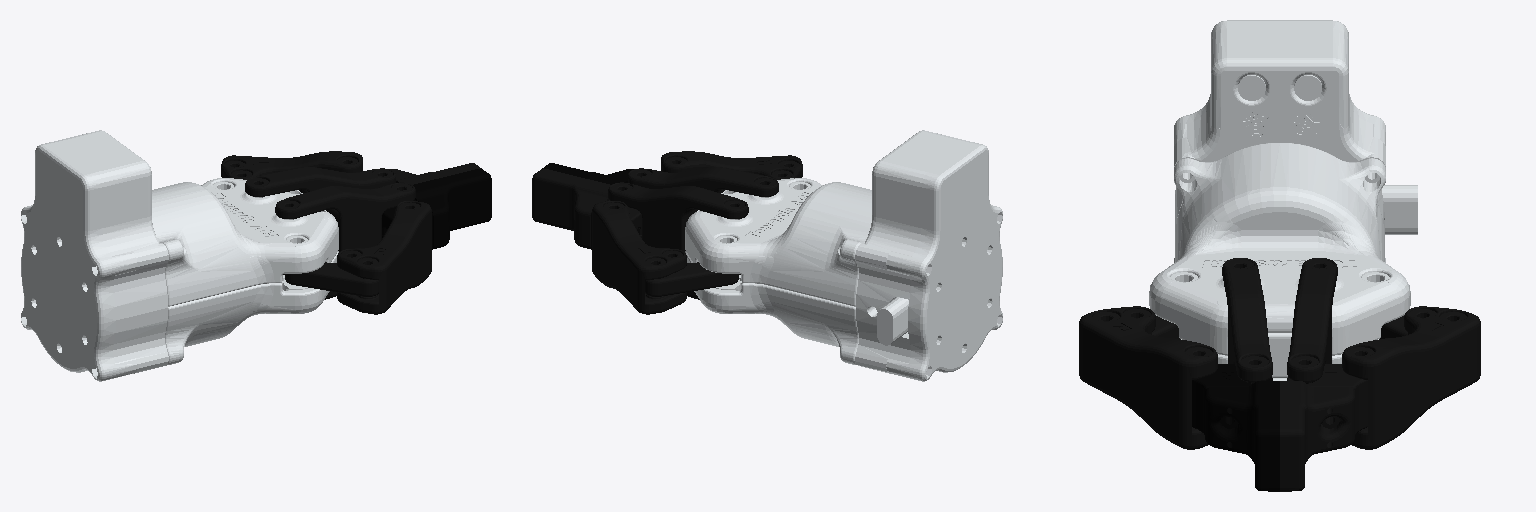
The robot description file, URDF, robot "zc_gripper_rev3":
<?xml version="1.0" encoding="utf-8"?>
<!-- This URDF was automatically created by SolidWorks to URDF Exporter! Originally created by [author] ([email redacted]) 
     Commit Version: 1.6.0-4-g7f85cfe  Build Version: 1.6.7995.38578
     For more information, please see http://wiki.ros.org/sw_urdf_exporter -->
<robot
  name="zc_gripper_rev3">
  <link
    name="base_link">
    <inertial>
      <origin
        xyz="0.041595 3.8229E-05 0.0084072"
        rpy="0 0 0" />
      <mass
        value="0.21079" />
      <inertia
        ixx="0.00015248"
        ixy="-4.2673E-07"
        ixz="-1.2221E-06"
        iyy="0.0001472"
        iyz="-7.0428E-07"
        izz="0.00015973" />
    </inertial>
    <visual>
      <origin
        xyz="0 0 0"
        rpy="0 0 0" />
      <geometry>
        <mesh
          filename="package://TR4_gripper_description/meshes/base_link.STL" />
      </geometry>
      <material
        name="">
        <color
          rgba="0.89804 0.91765 0.92941 1" />
      </material>
    </visual>
    <collision>
      <origin
        xyz="0 0 0"
        rpy="0 0 0" />
      <geometry>
        <mesh
          filename="package://TR4_gripper_description/meshes/base_link.STL" />
      </geometry>
    </collision>
  </link>
  <link
    name="l_link1">
    <inertial>
      <origin
        xyz="0.025591 0.01098 0.00012619"
        rpy="0 0 0" />
      <mass
        value="0.025052" />
      <inertia
        ixx="3.8147E-06"
        ixy="8.0164E-07"
        ixz="-2.625E-08"
        iyy="4.5288E-06"
        iyz="1.6433E-08"
        izz="6.104E-06" />
    </inertial>
    <visual>
      <origin
        xyz="0 0 0"
        rpy="0 0 0" />
      <geometry>
        <mesh
          filename="package://TR4_gripper_description/meshes/l_link1.STL" />
      </geometry>
      <material
        name="">
        <color
          rgba="0.11373 0.11373 0.11373 1" />
      </material>
    </visual>
    <collision>
      <origin
        xyz="0 0 0"
        rpy="0 0 0" />
      <geometry>
        <mesh
          filename="package://TR4_gripper_description/meshes/l_link1.STL" />
      </geometry>
    </collision>
  </link>
  <joint
    name="l_joint1"
    type="revolute">
    <origin
      xyz="0.096753 0.0306 0"
      rpy="0 0 0" />
    <parent
      link="base_link" />
    <child
      link="l_link1" />
    <axis
      xyz="0 0 -1" />
    <limit
      lower="-1.0472"
      upper="0"
      effort="0"
      velocity="0" />
  </joint>
  <link
    name="l_link2">
    <inertial>
      <origin
        xyz="0.017854 -0.014801 0.00022853"
        rpy="0 0 0" />
      <mass
        value="0.016248" />
      <inertia
        ixx="1.1526E-06"
        ixy="3.4183E-07"
        ixz="6.0475E-09"
        iyy="1.8417E-06"
        iyz="-1.7073E-08"
        izz="1.9483E-06" />
    </inertial>
    <visual>
      <origin
        xyz="0 0 0"
        rpy="0 0 0" />
      <geometry>
        <mesh
          filename="package://TR4_gripper_description/meshes/l_link2.STL" />
      </geometry>
      <material
        name="">
        <color
          rgba="0.1098 0.1098 0.1098 1" />
      </material>
    </visual>
    <collision>
      <origin
        xyz="0 0 0"
        rpy="0 0 0" />
      <geometry>
        <mesh
          filename="package://TR4_gripper_description/meshes/l_link2.STL" />
      </geometry>
    </collision>
  </link>
  <joint
    name="l_joint2"
    type="revolute">
    <origin
      xyz="0.056957 -0.0046989 0"
      rpy="0 0 0" />
    <parent
      link="l_link1" />
    <child
      link="l_link2" />
    <axis
      xyz="0 0 -1" />
    <limit
      lower="0"
      upper="1.0472"
      effort="0"
      velocity="0" />
  </joint>
  <link
    name="l_link3">
    <inertial>
      <origin
        xyz="-0.026661 0.0026672 -6.7314E-05"
        rpy="0 0 0" />
      <mass
        value="0.012807" />
      <inertia
        ixx="3.0944E-06"
        ixy="2.1726E-07"
        ixz="-6.4057E-09"
        iyy="5.8728E-06"
        iyz="1.2515E-10"
        izz="3.0853E-06" />
    </inertial>
    <visual>
      <origin
        xyz="0 0 0"
        rpy="0 0 0" />
      <geometry>
        <mesh
          filename="package://TR4_gripper_description/meshes/l_link3.STL" />
      </geometry>
      <material
        name="">
        <color
          rgba="0.11373 0.11373 0.11373 1" />
      </material>
    </visual>
    <collision>
      <origin
        xyz="0 0 0"
        rpy="0 0 0" />
      <geometry>
        <mesh
          filename="package://TR4_gripper_description/meshes/l_link3.STL" />
      </geometry>
    </collision>
  </link>
  <joint
    name="l_joint3"
    type="revolute">
    <origin
      xyz="0.0065155 -0.017901 0"
      rpy="0 0 0" />
    <parent
      link="l_link2" />
    <child
      link="l_link3" />
    <axis
      xyz="0 0 -1" />
    <limit
      lower="-1.0472"
      upper="0"
      effort="0"
      velocity="0" />
  </joint>
  <link
    name="r_link1">
    <inertial>
      <origin
        xyz="0.025591 -0.01098 0.00012554"
        rpy="0 0 0" />
      <mass
        value="0.025051" />
      <inertia
        ixx="3.8145E-06"
        ixy="-8.0156E-07"
        ixz="-2.639E-08"
        iyy="4.5285E-06"
        iyz="-1.6541E-08"
        izz="6.1038E-06" />
    </inertial>
    <visual>
      <origin
        xyz="0 0 0"
        rpy="0 0 0" />
      <geometry>
        <mesh
          filename="package://TR4_gripper_description/meshes/r_link1.STL" />
      </geometry>
      <material
        name="">
        <color
          rgba="0.11373 0.11373 0.11373 1" />
      </material>
    </visual>
    <collision>
      <origin
        xyz="0 0 0"
        rpy="0 0 0" />
      <geometry>
        <mesh
          filename="package://TR4_gripper_description/meshes/r_link1.STL" />
      </geometry>
    </collision>
  </link>
  <joint
    name="r_joint1"
    type="revolute">
    <origin
      xyz="0.096753 -0.0306 0"
      rpy="0 0 0" />
    <parent
      link="base_link" />
    <child
      link="r_link1" />
    <axis
      xyz="0 0 -1" />
    <limit
      lower="0"
      upper="1.0472"
      effort="0"
      velocity="0" />
  </joint>
  <link
    name="r_link2">
    <inertial>
      <origin
        xyz="0.017856 0.014802 0.00022741"
        rpy="0 0 0" />
      <mass
        value="0.016244" />
      <inertia
        ixx="1.1523E-06"
        ixy="-3.4181E-07"
        ixz="6.1573E-09"
        iyy="1.8414E-06"
        iyz="1.71E-08"
        izz="1.9481E-06" />
    </inertial>
    <visual>
      <origin
        xyz="0 0 0"
        rpy="0 0 0" />
      <geometry>
        <mesh
          filename="package://TR4_gripper_description/meshes/r_link2.STL" />
      </geometry>
      <material
        name="">
        <color
          rgba="0.054902 0.054902 0.054902 1" />
      </material>
    </visual>
    <collision>
      <origin
        xyz="0 0 0"
        rpy="0 0 0" />
      <geometry>
        <mesh
          filename="package://TR4_gripper_description/meshes/r_link2.STL" />
      </geometry>
    </collision>
  </link>
  <joint
    name="r_joint2"
    type="revolute">
    <origin
      xyz="0.056957 0.0046989 0"
      rpy="0 0 0" />
    <parent
      link="r_link1" />
    <child
      link="r_link2" />
    <axis
      xyz="0 0 -1" />
    <limit
      lower="-1.0472"
      upper="0"
      effort="0"
      velocity="0" />
  </joint>
  <link
    name="r_link3">
    <inertial>
      <origin
        xyz="-0.02666 -0.0026673 -6.7319E-05"
        rpy="0 0 0" />
      <mass
        value="0.012807" />
      <inertia
        ixx="3.0944E-06"
        ixy="-2.1728E-07"
        ixz="-6.4065E-09"
        iyy="5.8728E-06"
        iyz="-1.2491E-10"
        izz="3.0853E-06" />
    </inertial>
    <visual>
      <origin
        xyz="0 0 0"
        rpy="0 0 0" />
      <geometry>
        <mesh
          filename="package://TR4_gripper_description/meshes/r_link3.STL" />
      </geometry>
      <material
        name="">
        <color
          rgba="0.11373 0.11373 0.11373 1" />
      </material>
    </visual>
    <collision>
      <origin
        xyz="0 0 0"
        rpy="0 0 0" />
      <geometry>
        <mesh
          filename="package://TR4_gripper_description/meshes/r_link3.STL" />
      </geometry>
    </collision>
  </link>
  <joint
    name="r_joint3"
    type="revolute">
    <origin
      xyz="0.0065147 0.017901 0"
      rpy="0 0 0" />
    <parent
      link="r_link2" />
    <child
      link="r_link3" />
    <axis
      xyz="0 0 -1" />
    <limit
      lower="0"
      upper="1.0472"
      effort="0"
      velocity="0" />
  </joint>
</robot>

--- Facts derived from the render (not from the file) ---
3 views of the same robot in one strip: view 1: azimuth 30°, elevation 25°; view 2: azimuth 150°, elevation 25°; view 3: azimuth 270°, elevation 25° (orthographic).
Robot: zc_gripper_rev3 — 7 links, 6 joints (6 revolute); root link base_link; default pose: all joints at 0.
Links seen in each view (by area): view 1: base_link, r_link1, r_link3, r_link2, l_link3, l_link1, l_link2; view 2: base_link, l_link1, l_link3, l_link2, r_link3, r_link1, r_link2; view 3: base_link, r_link1, l_link1, l_link2, r_link2, l_link3, r_link3.
Link boxes in pixels (x1,y1,x2,y2): base_link: (21,130,338,381); r_link1: (283,201,431,314); r_link3: (275,182,415,299); r_link2: (382,168,491,249); l_link3: (245,167,395,196); l_link1: (221,151,362,192); l_link2: (390,163,481,184); base_link: (685,130,1002,381); l_link1: (592,201,740,314); l_link3: (608,182,748,299); l_link2: (532,168,641,249); r_link3: (628,167,778,196); r_link1: (661,151,802,192); r_link2: (542,163,633,184); base_link: (1149,20,1417,380); r_link1: (1079,306,1217,449); l_link1: (1342,306,1480,449); l_link2: (1280,364,1367,491); r_link2: (1192,364,1279,491); l_link3: (1287,258,1337,383); r_link3: (1222,258,1272,383).
Bounding box of the posed robot: 0.2042 × 0.1284 × 0.095 m (x, y, z).
7 mesh visuals loaded from 7 distinct referenced files (7 binary STL).